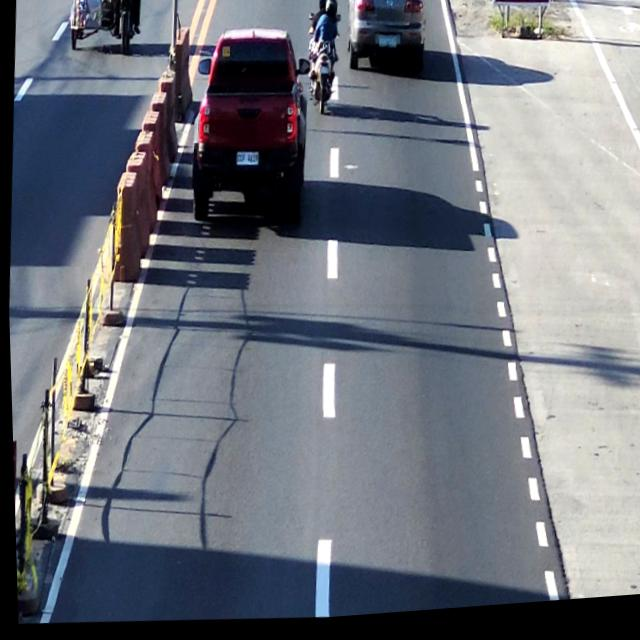Car: (185, 22, 312, 233), (339, 0, 433, 93)
License-Plate: (374, 40, 400, 59)
Motorcycle: (303, 0, 343, 113), (232, 149, 261, 176)
